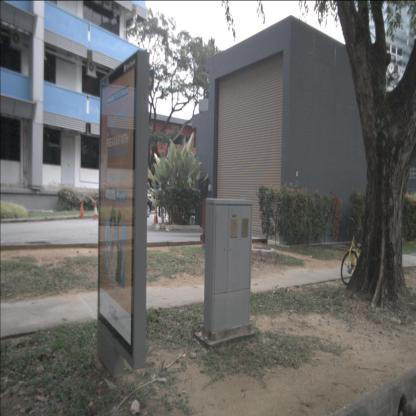cone: (152, 204, 160, 225), (78, 201, 86, 220), (92, 202, 99, 220)
